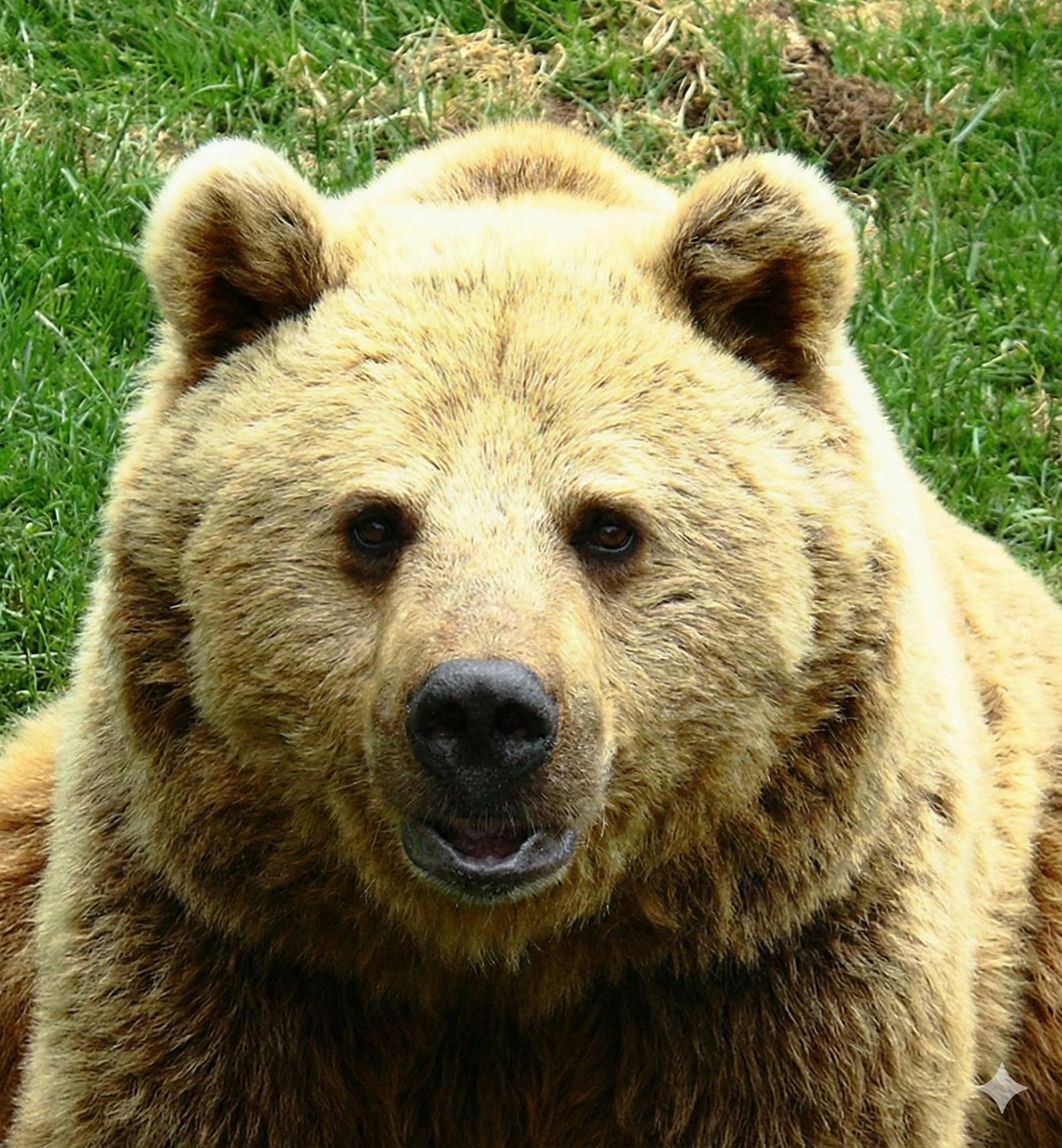bear: (1, 113, 1053, 1142)
